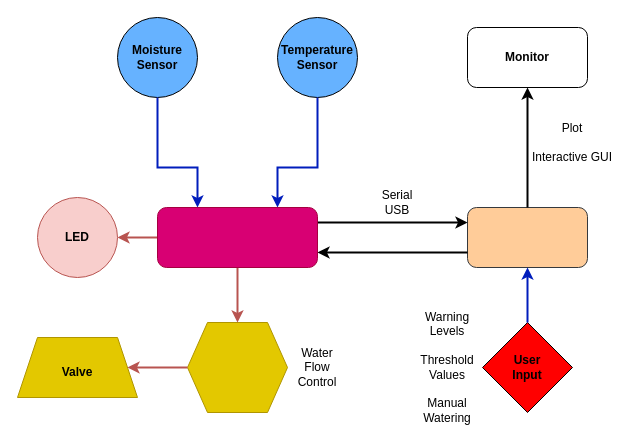
The diagram is 635 pixels wide and 442 high, and some of its shapes have lost their labels. The centre of each missing label's shape, as x and y in pixels:
"Arduino" belongs at point (237, 237).
"PC" belongs at point (527, 237).
"Servo" belongs at point (237, 367).
